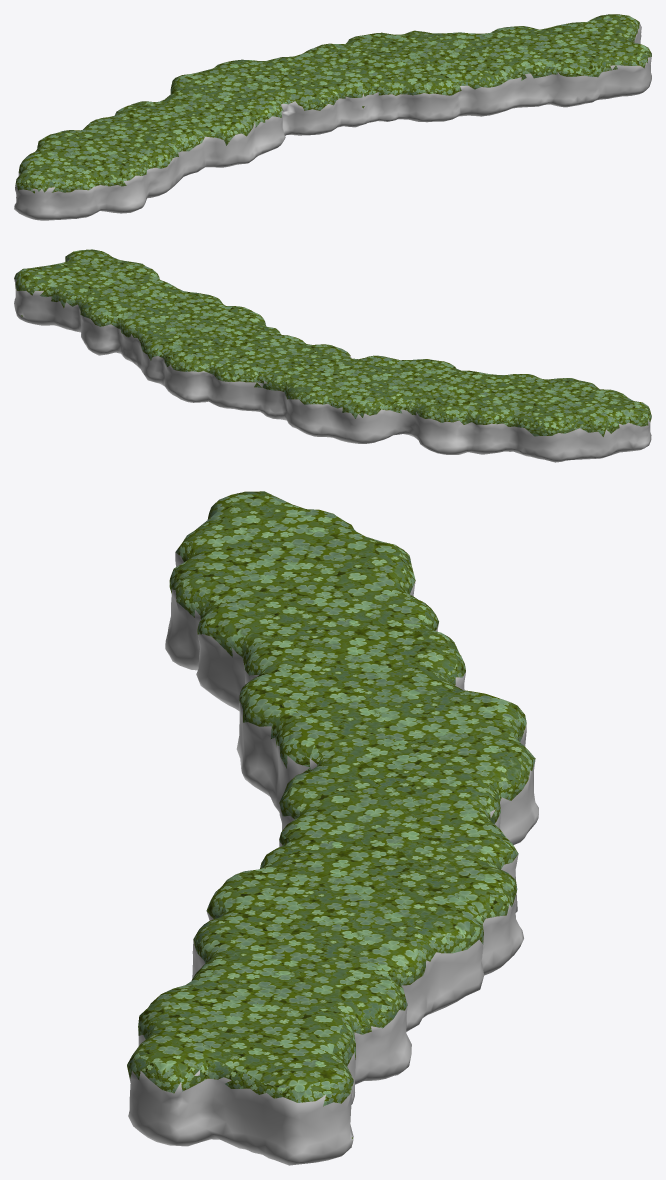
The model's file is RockWalkWay_cl.fbx.
3 views of the same model, one above another, from view 1: azimuth 30°, elevation 25°; view 2: azimuth 150°, elevation 25°; view 3: azimuth 270°, elevation 25° (orthographic). The views are drawn at different scales.
Parts seen in each view (by area): view 1: RockWalkway_3.001; view 2: RockWalkway_3.001; view 3: RockWalkway_3.001.
Part boxes in pixels (left/top/right/bottom): RockWalkway_3.001: left=14, top=14, right=651, bottom=220; RockWalkway_3.001: left=14, top=249, right=651, bottom=462; RockWalkway_3.001: left=127, top=491, right=538, bottom=1165.
Size of the model in its own units: 2664 by 190 by 761.
